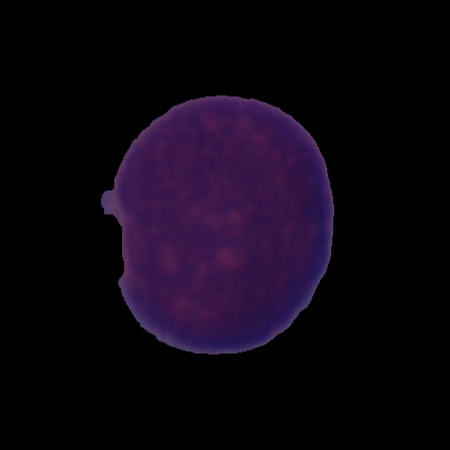ALL: (97, 91, 339, 358)
